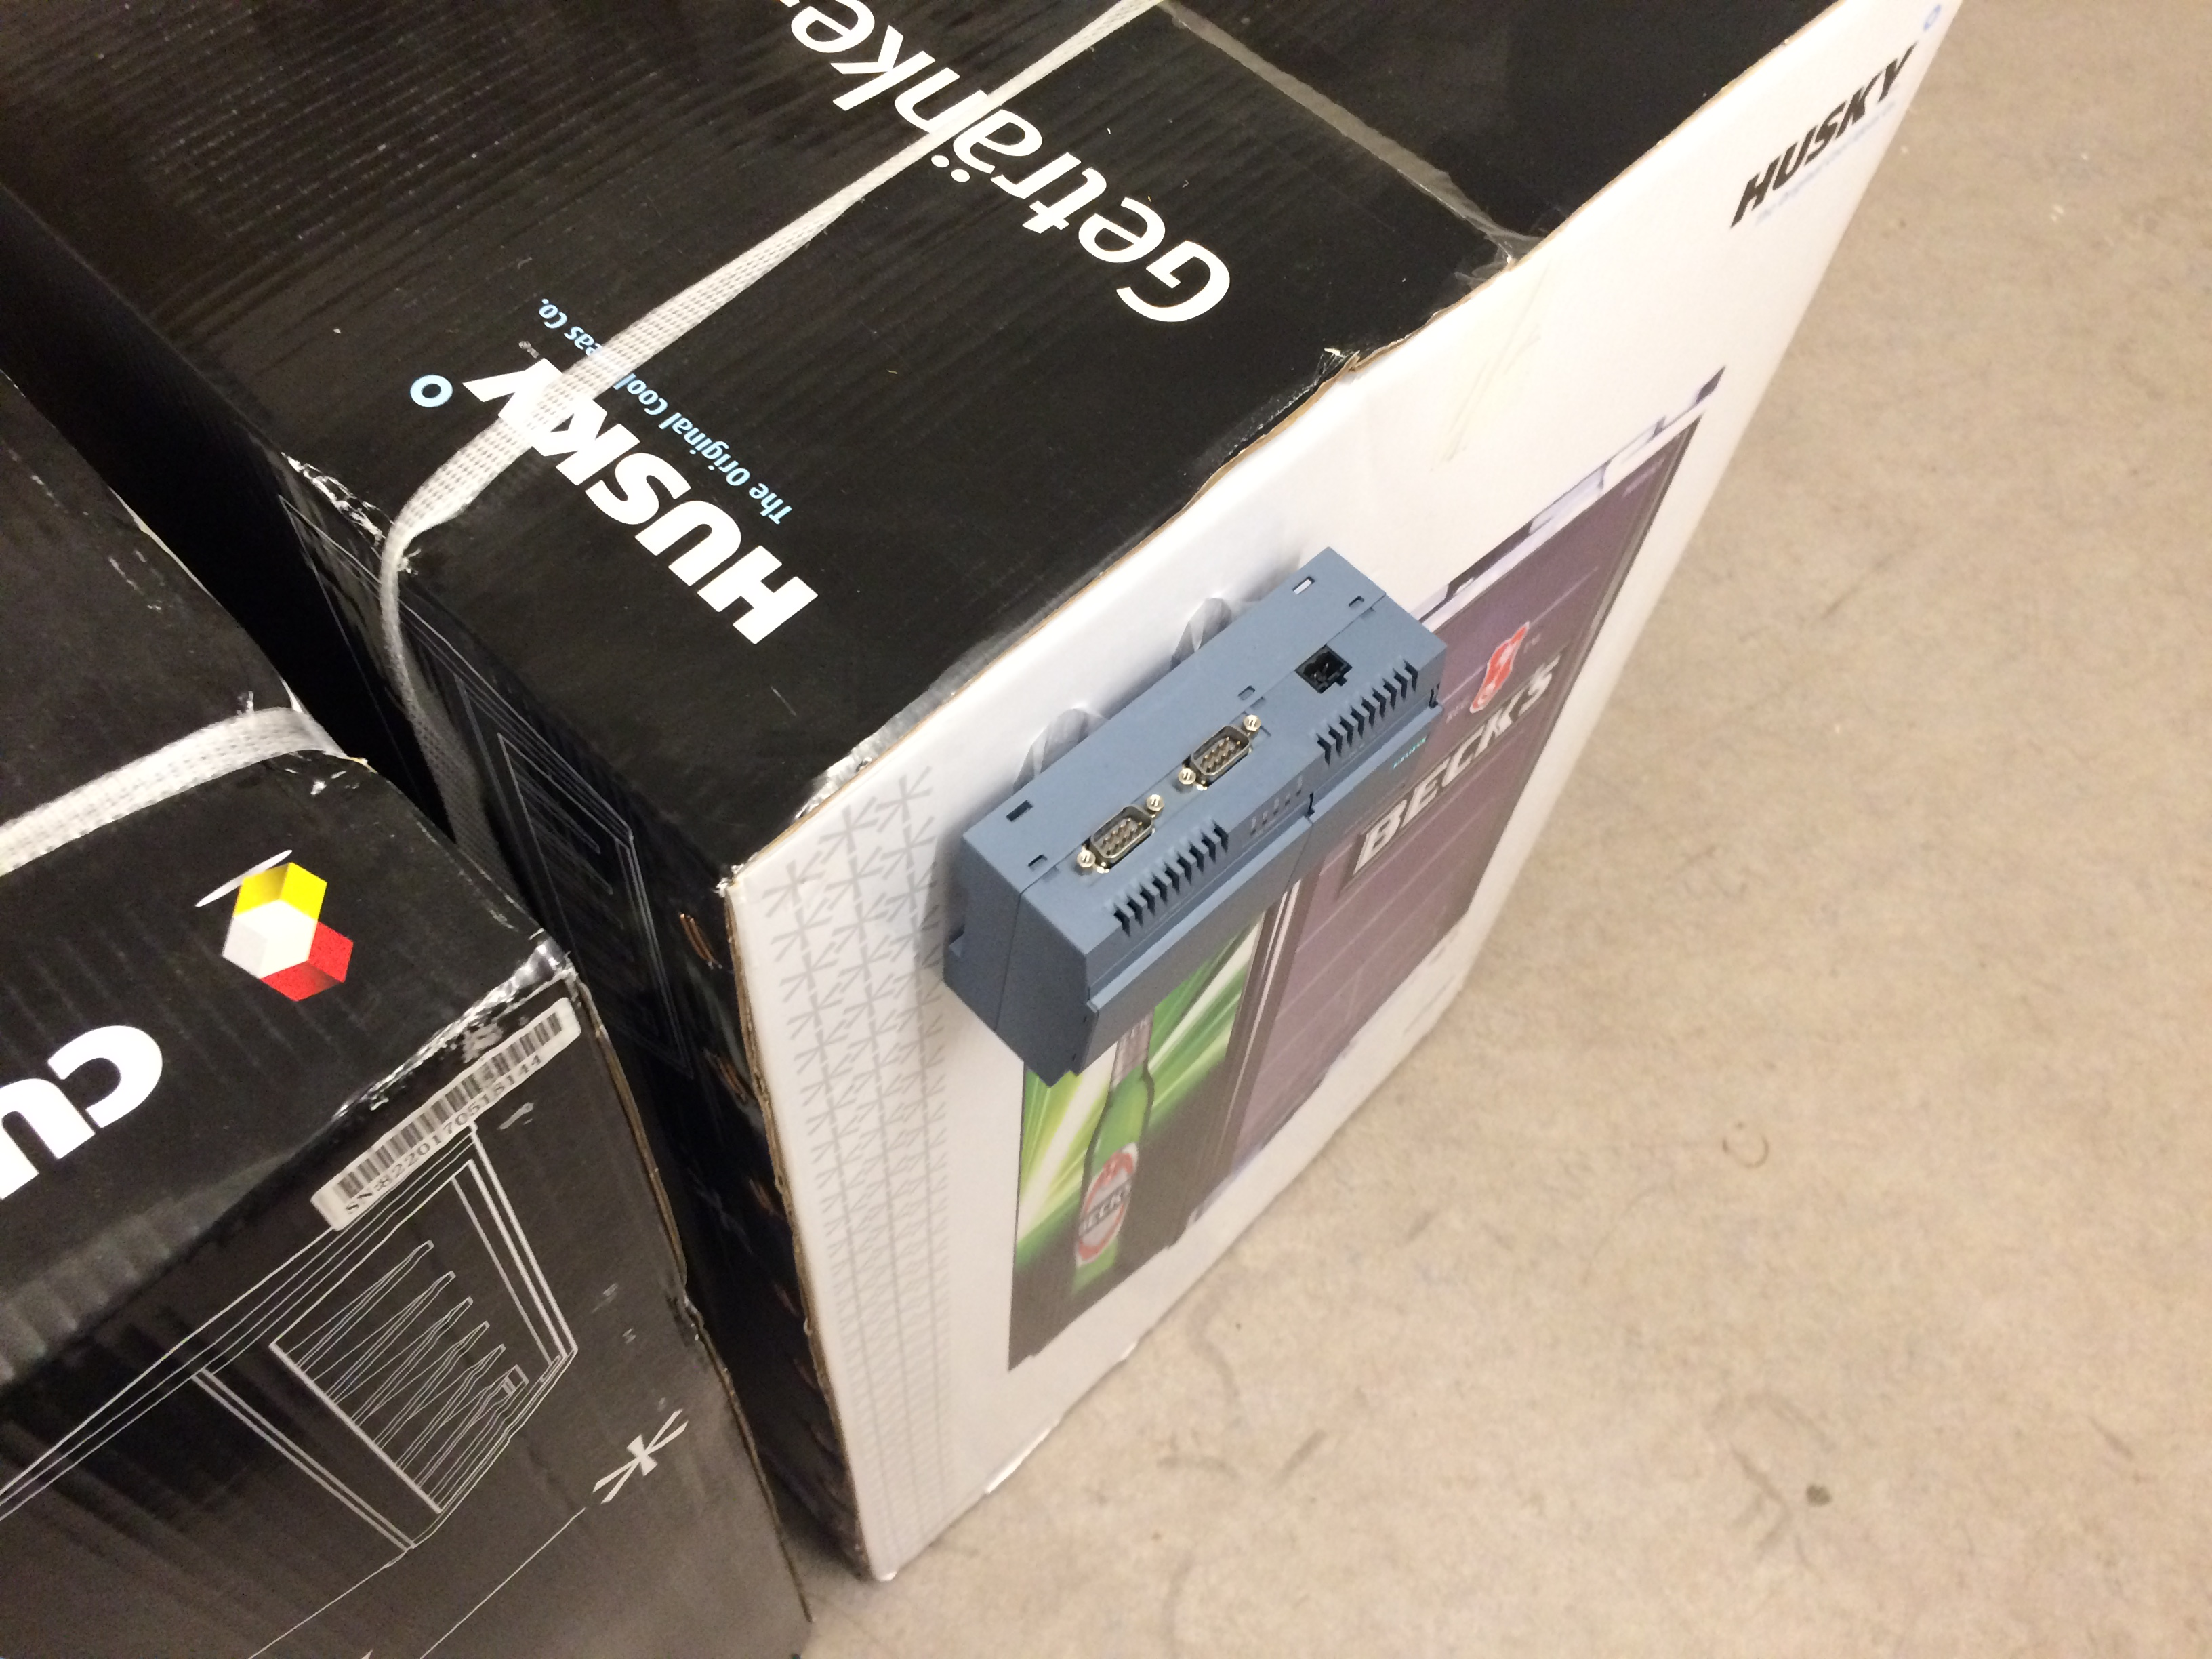iot2000: (941, 542, 1451, 1093)
